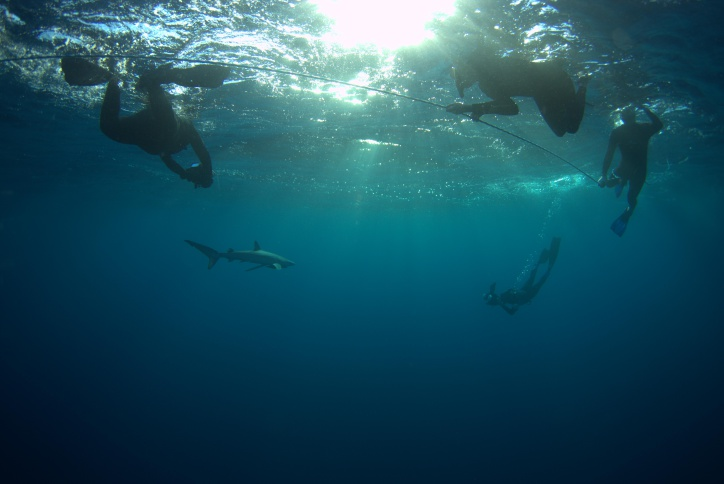Azul: (183, 231, 302, 276)
